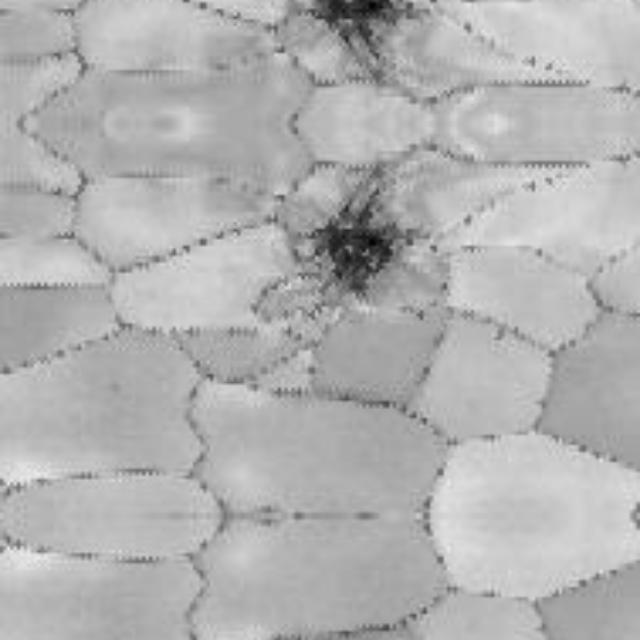good_void: (290, 174, 428, 308), (295, 0, 428, 74)
